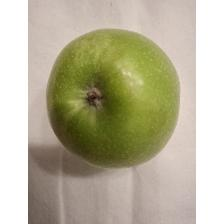Apfel: (44, 24, 182, 172)
